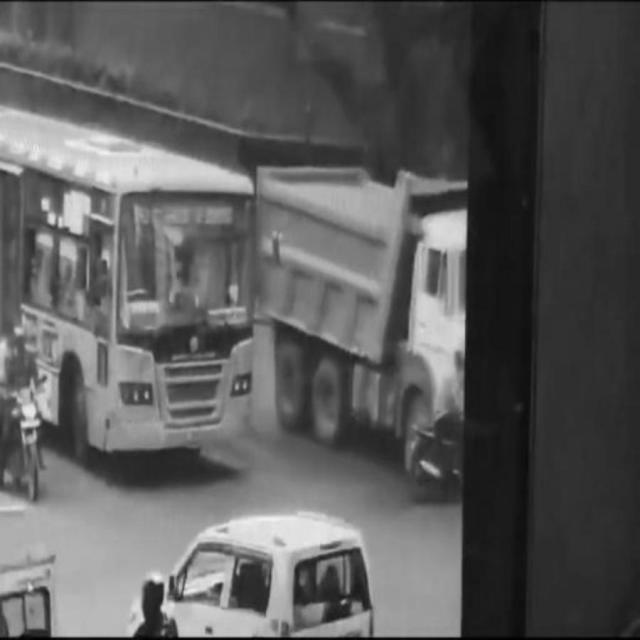vehicle: (15, 109, 249, 463), (256, 155, 464, 479), (140, 514, 372, 634), (3, 323, 44, 513)
